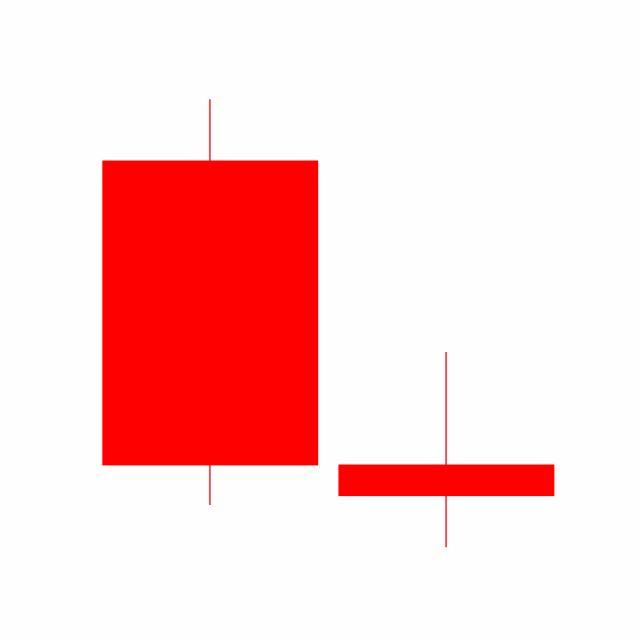Spinning Top: (328, 350, 566, 550)
